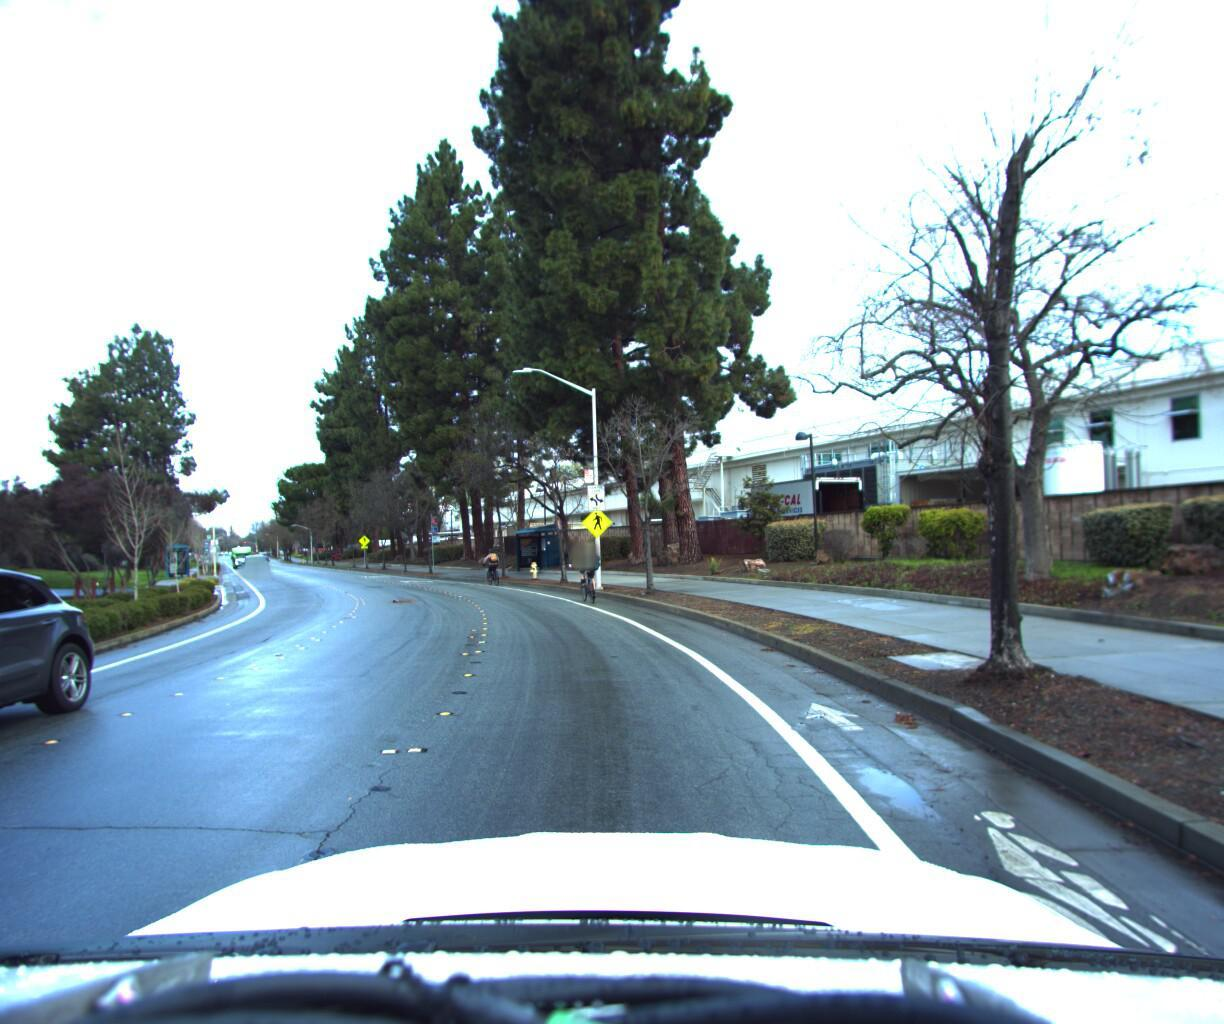bicycle: (558, 543, 604, 610), (477, 546, 507, 586)
car: (0, 559, 115, 860), (244, 556, 272, 578)
truck: (733, 475, 871, 554)
